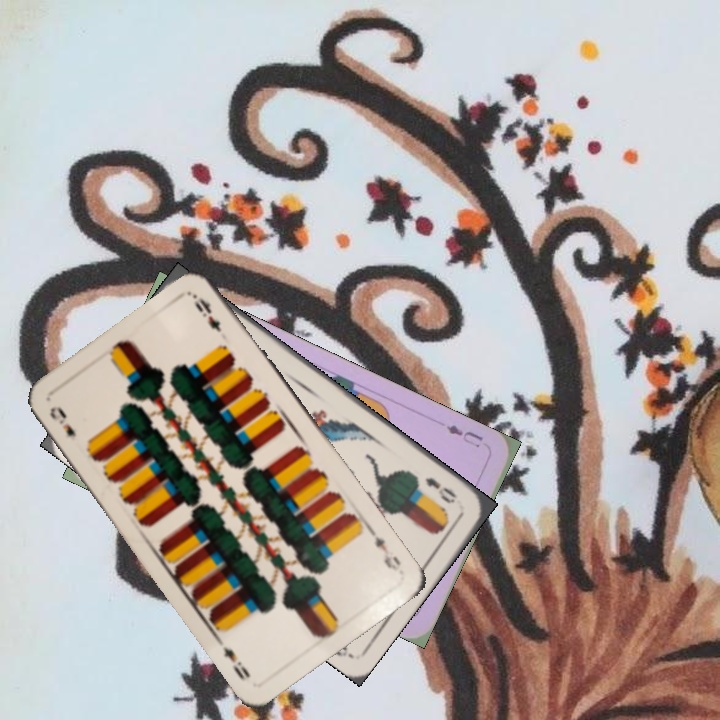E9: (365, 525, 404, 574), (45, 402, 79, 440)
EO: (421, 473, 460, 506)
EU: (442, 420, 486, 450)
